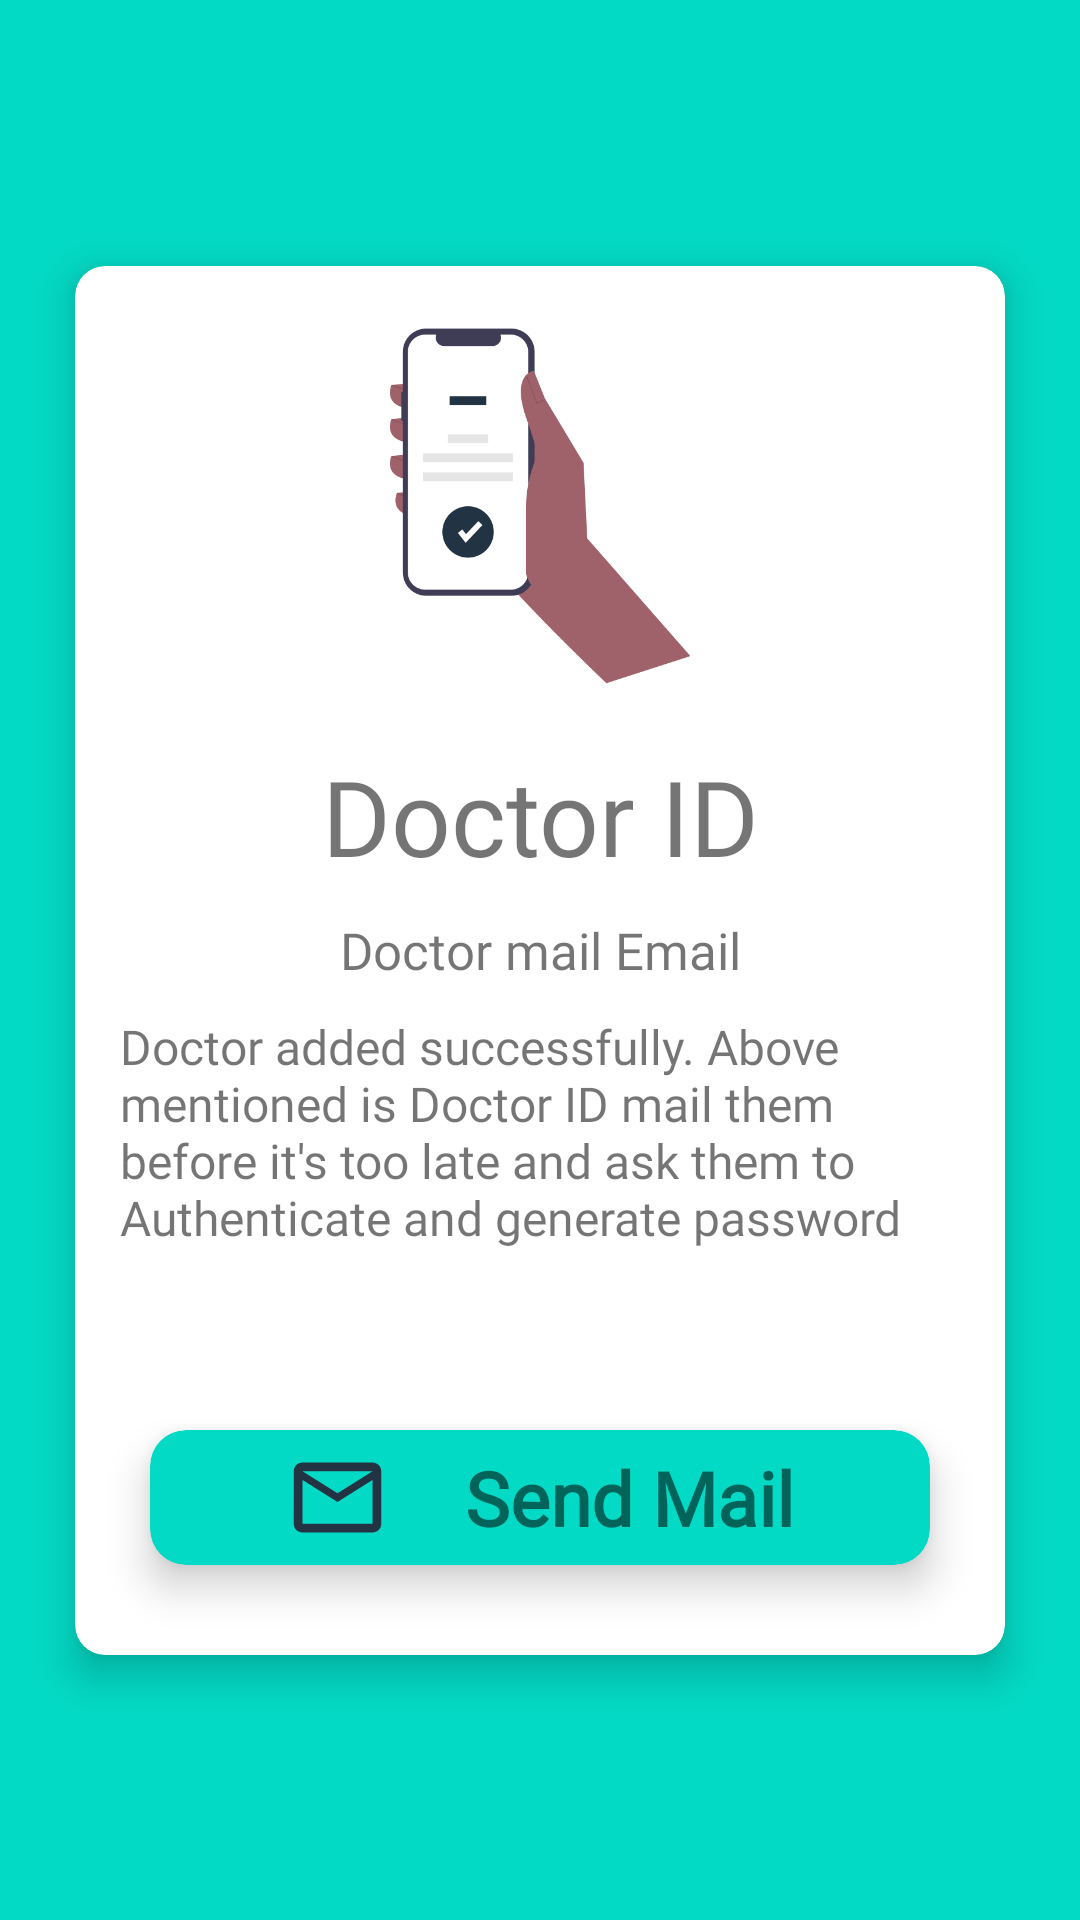

Screen size 1080w x 1920h. Icon name, then its center in pixels as point (x, y):
mail out: point (337, 1497)
sucess: point (540, 506)
